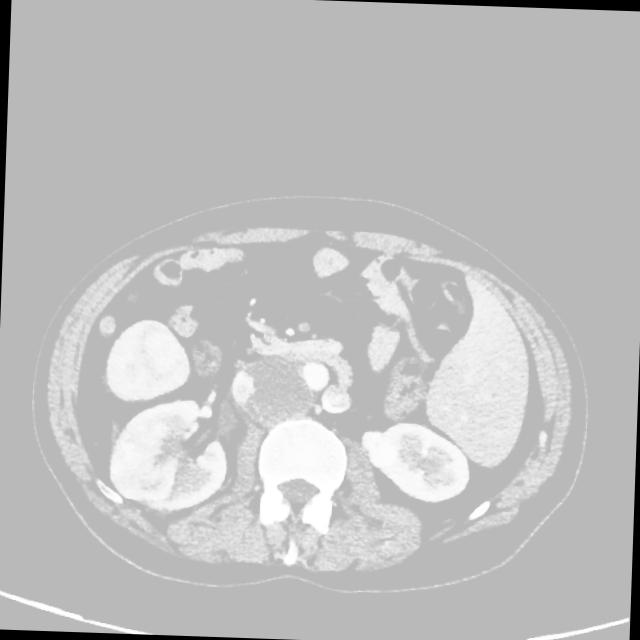TUMOR: (62, 225, 552, 525)
